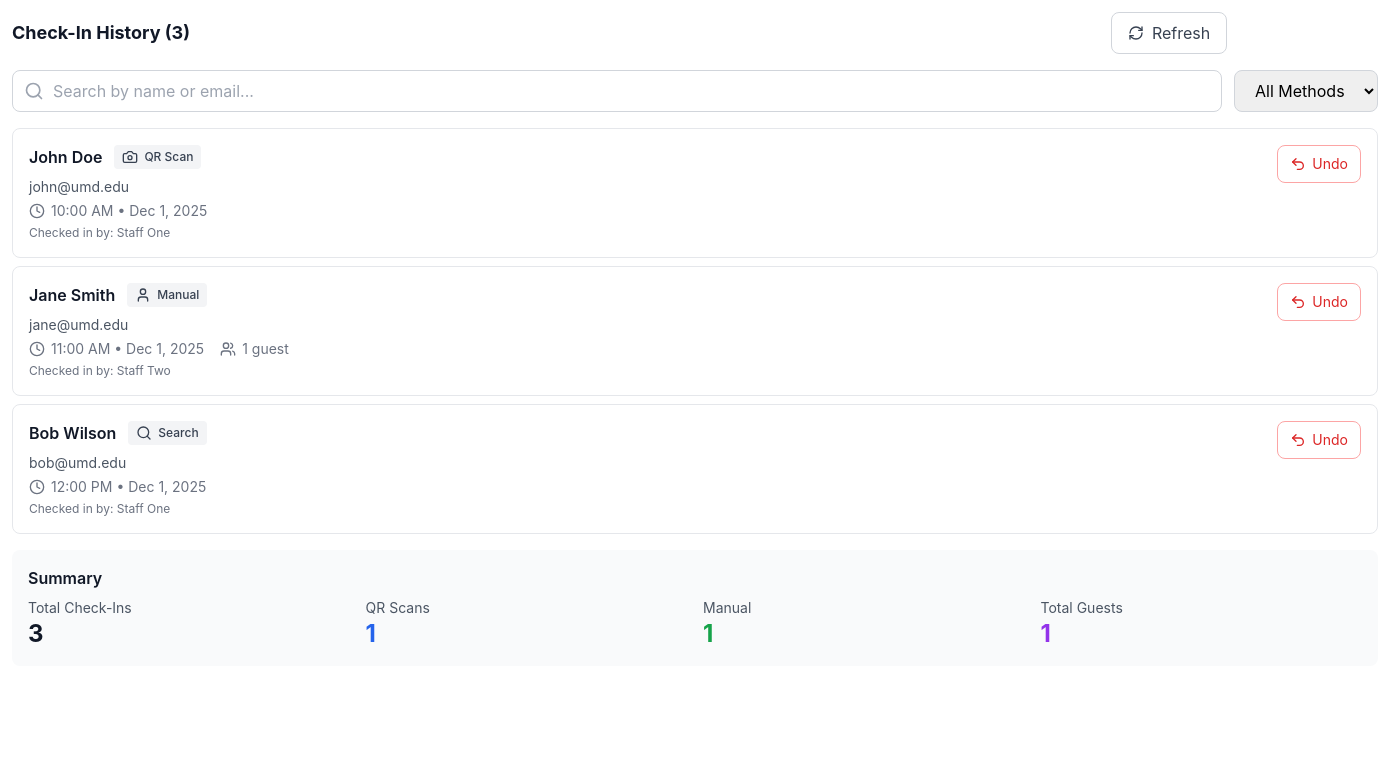
Test: CheckInHistory › filters check-ins by search query
Expected: the heading "John Doe" is shown, [29,145,102,169]
Type "John" into the field with placeholder "Search by name or email...". click: (617, 91)
box: [12,70,1222,112]
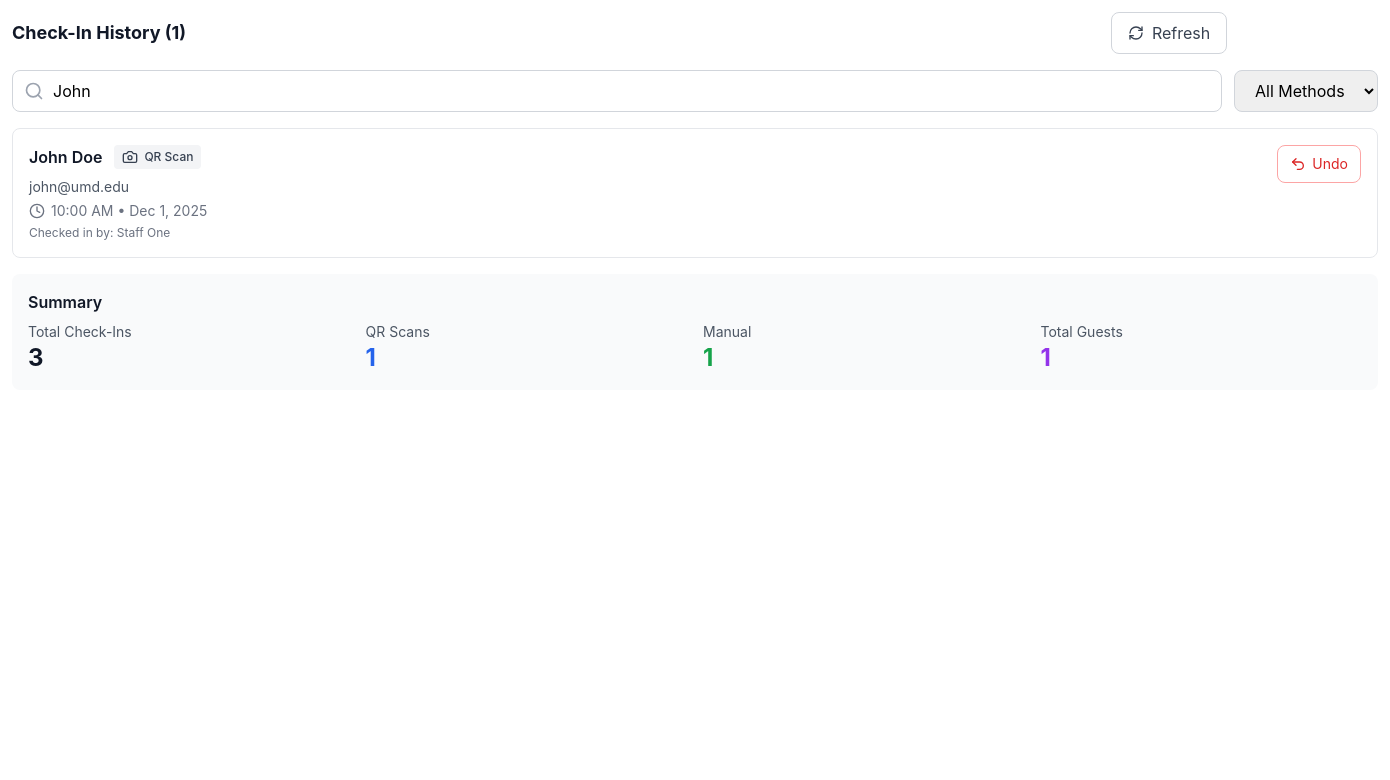
Expected: the heading "John Doe" is shown, [29,145,102,169]
Expected: the heading "Jane Smith" is gone
